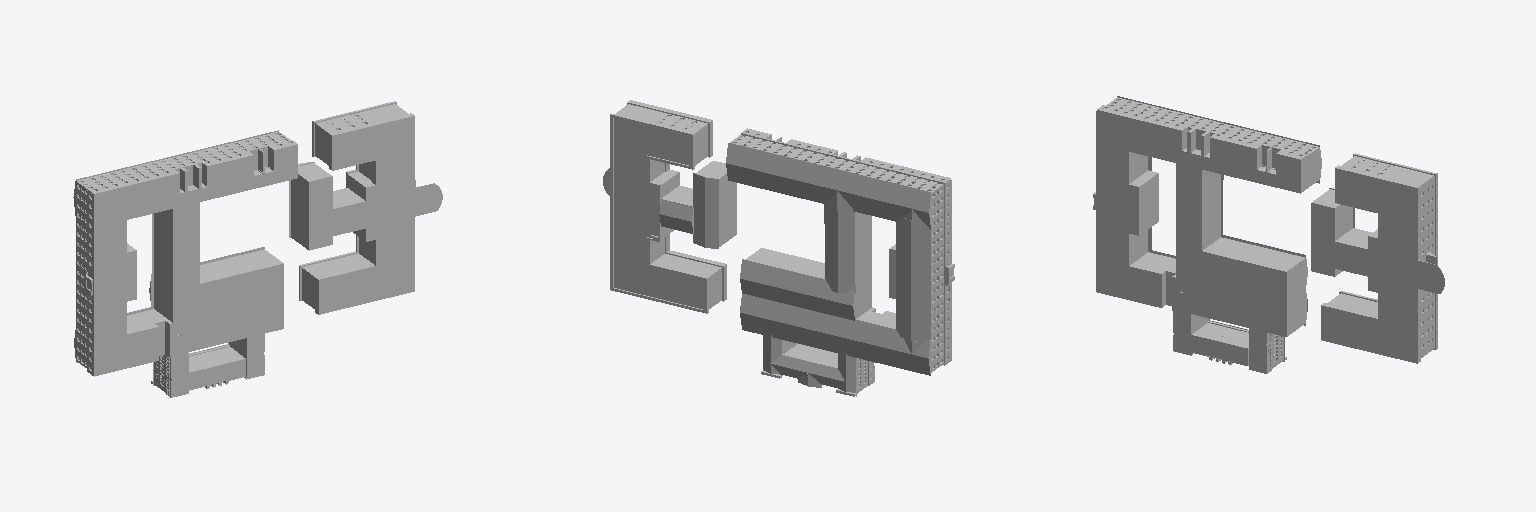
Rendered from UM_RADOM_CAŁY.obj.
The picture shows the model from 3 angles: view 1: azimuth 30°, elevation 25°; view 2: azimuth 150°, elevation 25°; view 3: azimuth 330°, elevation 25°; orthographic projection.
Visible parts, largest first — view 1: UM_RADOM_CAŁY; view 2: UM_RADOM_CAŁY; view 3: UM_RADOM_CAŁY.
Boxes of the visible parts, <box> form: UM_RADOM_CAŁY: <box>73,101,442,397</box>; UM_RADOM_CAŁY: <box>603,100,954,396</box>; UM_RADOM_CAŁY: <box>1093,96,1444,373</box>.
Size of the model in its own units: 0.0419 by 0.0255 by 0.0045.